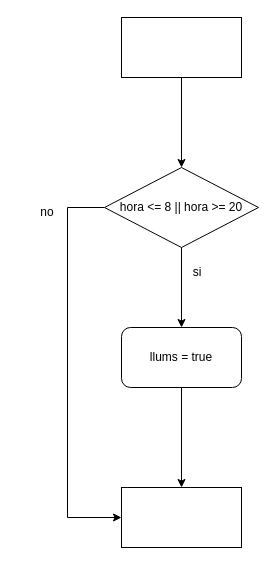
Image size: 276x565. Some labels were removed from this diagram. The centre of each missing label's shape, as x and y in pixels:
llums = false: (181,47)
return llums: (181,517)
